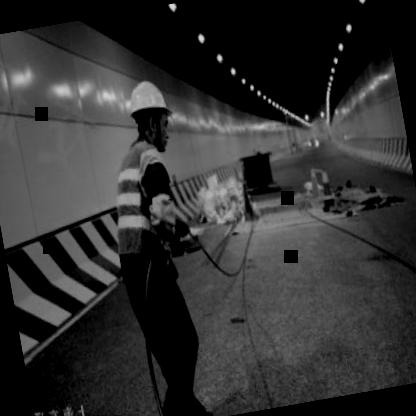helmet: (121, 70, 180, 158)
